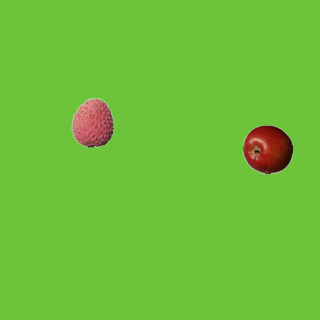Apple Braeburn: (242, 124, 292, 174)
Lychee: (67, 97, 117, 147)
